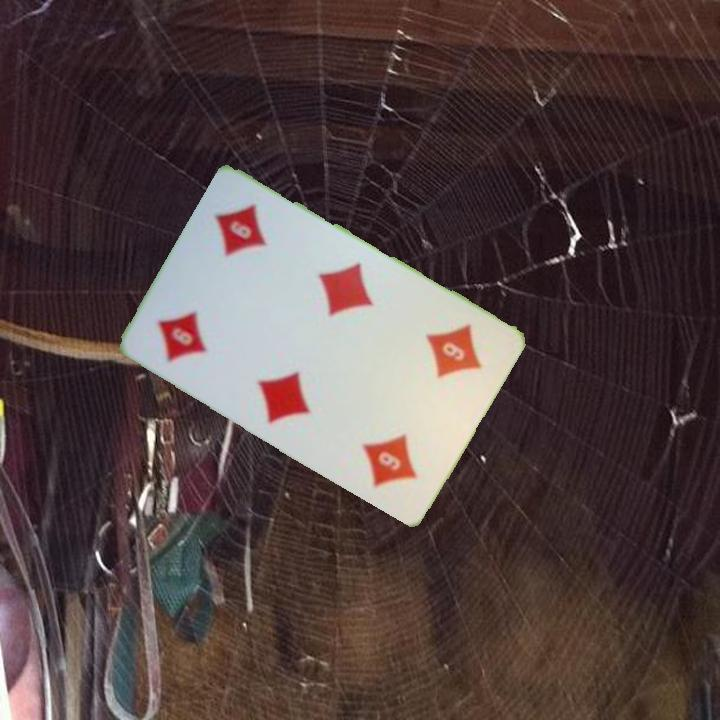d_6.png: (385, 299, 508, 427), (134, 262, 256, 389)
